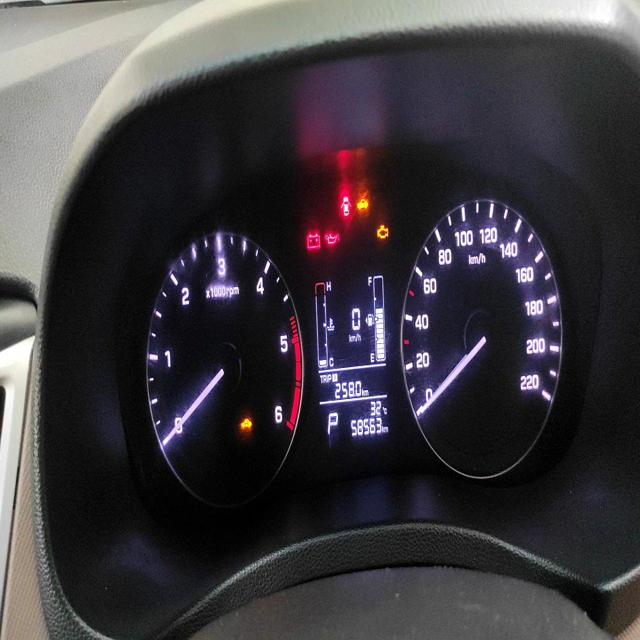odometer: (349, 416, 382, 439)
